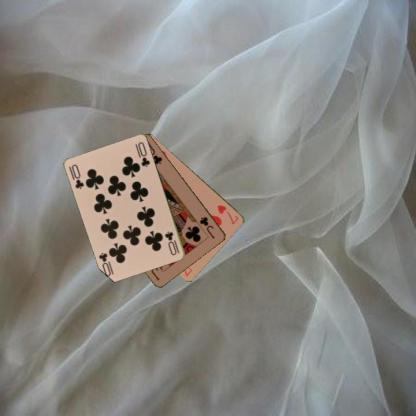10c: (162, 228, 180, 256), (70, 162, 86, 190)
7h: (215, 202, 240, 225)
Jc: (197, 214, 217, 239)
